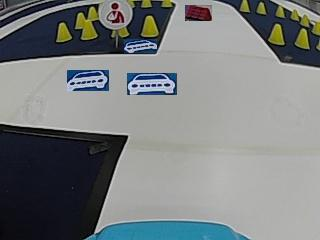cone: (140, 15, 158, 37), (268, 24, 285, 45), (81, 19, 97, 40), (56, 22, 72, 42), (295, 28, 309, 49), (87, 6, 98, 19), (256, 2, 267, 14), (239, 1, 250, 12), (275, 5, 285, 17), (160, 0, 173, 8), (140, 0, 152, 8)
patient: (97, 0, 133, 29)
